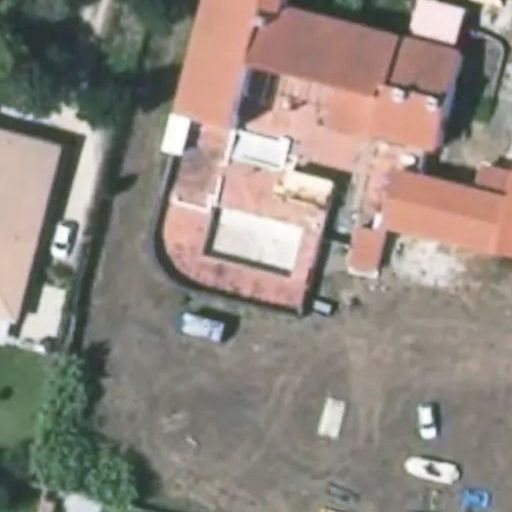pool: (205, 207, 305, 277)
